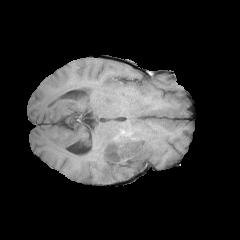glioma: (89, 126, 166, 183)
